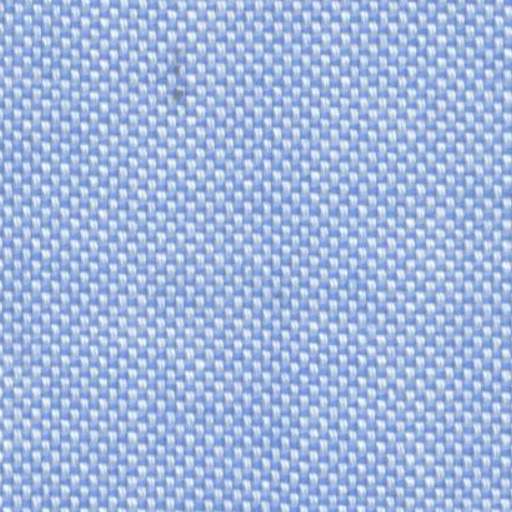WuZi: (148, 34, 216, 111)
